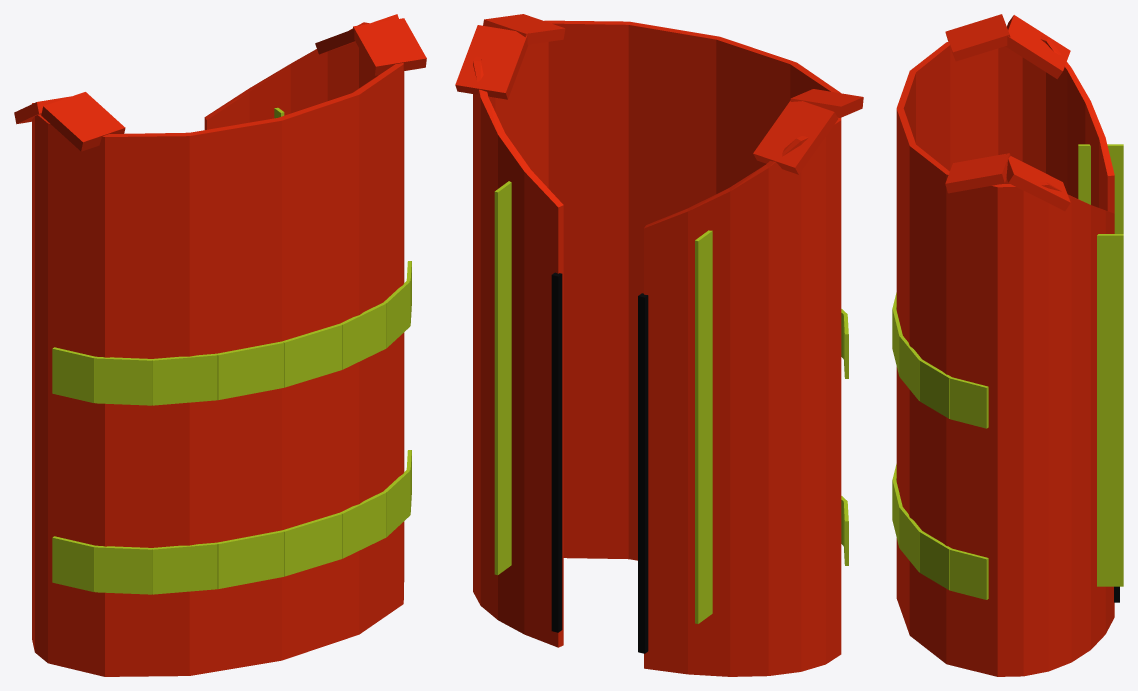
Rendered from ACCESSORY_07_SafetyVest.obj.
3 renders of one model, left to right at view 1: azimuth 30°, elevation 25°; view 2: azimuth 150°, elevation 25°; view 3: azimuth 270°, elevation 25°, orthographic. The views are drawn at different scales.
Visible parts, largest first — view 1: ACCESSORY_07_SafetyVest_Back, ACCESSORY_07_SafetyVest_Reflective_Bands, ACCESSORY_07_SafetyVest_Front_Left, ACCESSORY_07_SafetyVest_Shoulder_Straps, ACCESSORY_07_SafetyVest_Front_Right; view 2: ACCESSORY_07_SafetyVest_Front_Left, ACCESSORY_07_SafetyVest_Back, ACCESSORY_07_SafetyVest_Front_Right, ACCESSORY_07_SafetyVest_Reflective_Bands, ACCESSORY_07_SafetyVest_Shoulder_Straps, ACCESSORY_07_SafetyVest_Zip_Placket; view 3: ACCESSORY_07_SafetyVest_Back, ACCESSORY_07_SafetyVest_Front_Right, ACCESSORY_07_SafetyVest_Reflective_Bands, ACCESSORY_07_SafetyVest_Front_Left, ACCESSORY_07_SafetyVest_Shoulder_Straps.
Part boxes in pixels (<box>): ACCESSORY_07_SafetyVest_Back: <box>48,63,404,676</box>; ACCESSORY_07_SafetyVest_Reflective_Bands: <box>52,107,411,594</box>; ACCESSORY_07_SafetyVest_Front_Left: <box>32,103,48,662</box>; ACCESSORY_07_SafetyVest_Shoulder_Straps: <box>14,14,426,151</box>; ACCESSORY_07_SafetyVest_Front_Right: <box>204,22,378,129</box>; ACCESSORY_07_SafetyVest_Front_Left: <box>644,119,841,676</box>; ACCESSORY_07_SafetyVest_Back: <box>495,20,841,560</box>; ACCESSORY_07_SafetyVest_Front_Right: <box>473,56,563,647</box>; ACCESSORY_07_SafetyVest_Reflective_Bands: <box>494,181,848,623</box>; ACCESSORY_07_SafetyVest_Shoulder_Straps: <box>455,14,863,174</box>; ACCESSORY_07_SafetyVest_Zip_Placket: <box>551,272,648,653</box>; ACCESSORY_07_SafetyVest_Back: <box>896,41,998,676</box>; ACCESSORY_07_SafetyVest_Front_Right: <box>997,182,1114,676</box>; ACCESSORY_07_SafetyVest_Reflective_Bands: <box>892,144,1123,599</box>; ACCESSORY_07_SafetyVest_Front_Left: <box>998,35,1114,213</box>; ACCESSORY_07_SafetyVest_Shoulder_Straps: <box>945,14,1070,211</box>.
Size of the model in its own units: 0.4213 by 0.6178 by 0.2565.
